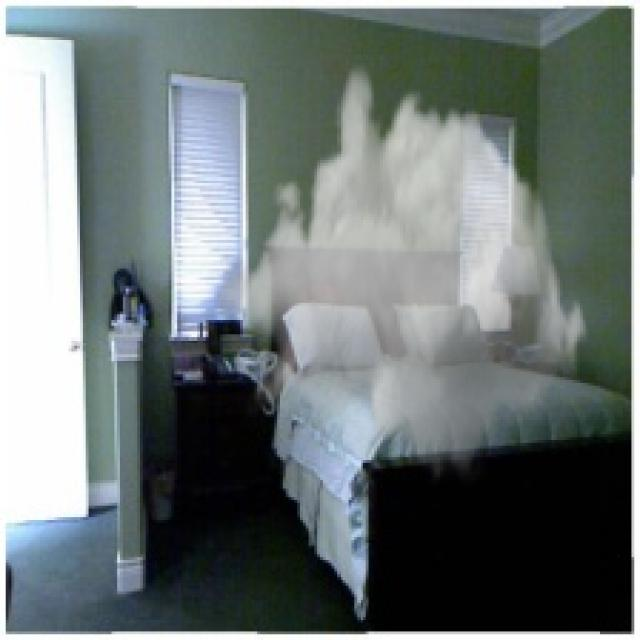smoke: (217, 60, 592, 486)
